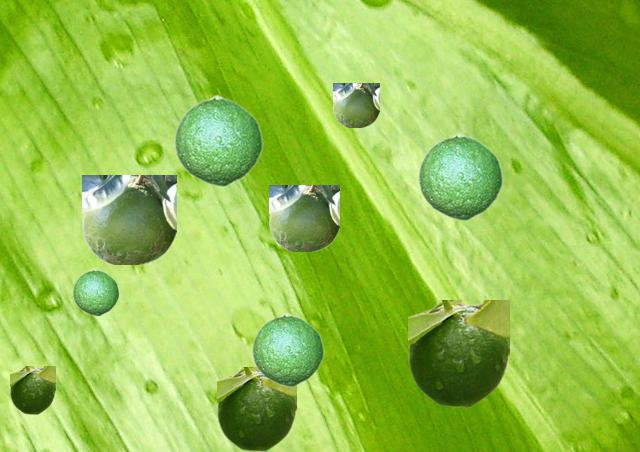dalandan: (408, 300, 508, 406), (173, 94, 262, 186), (82, 175, 175, 263), (417, 132, 502, 220), (217, 367, 295, 450), (251, 312, 323, 386), (269, 185, 338, 250), (72, 268, 118, 315), (10, 366, 54, 413), (333, 83, 378, 126)
